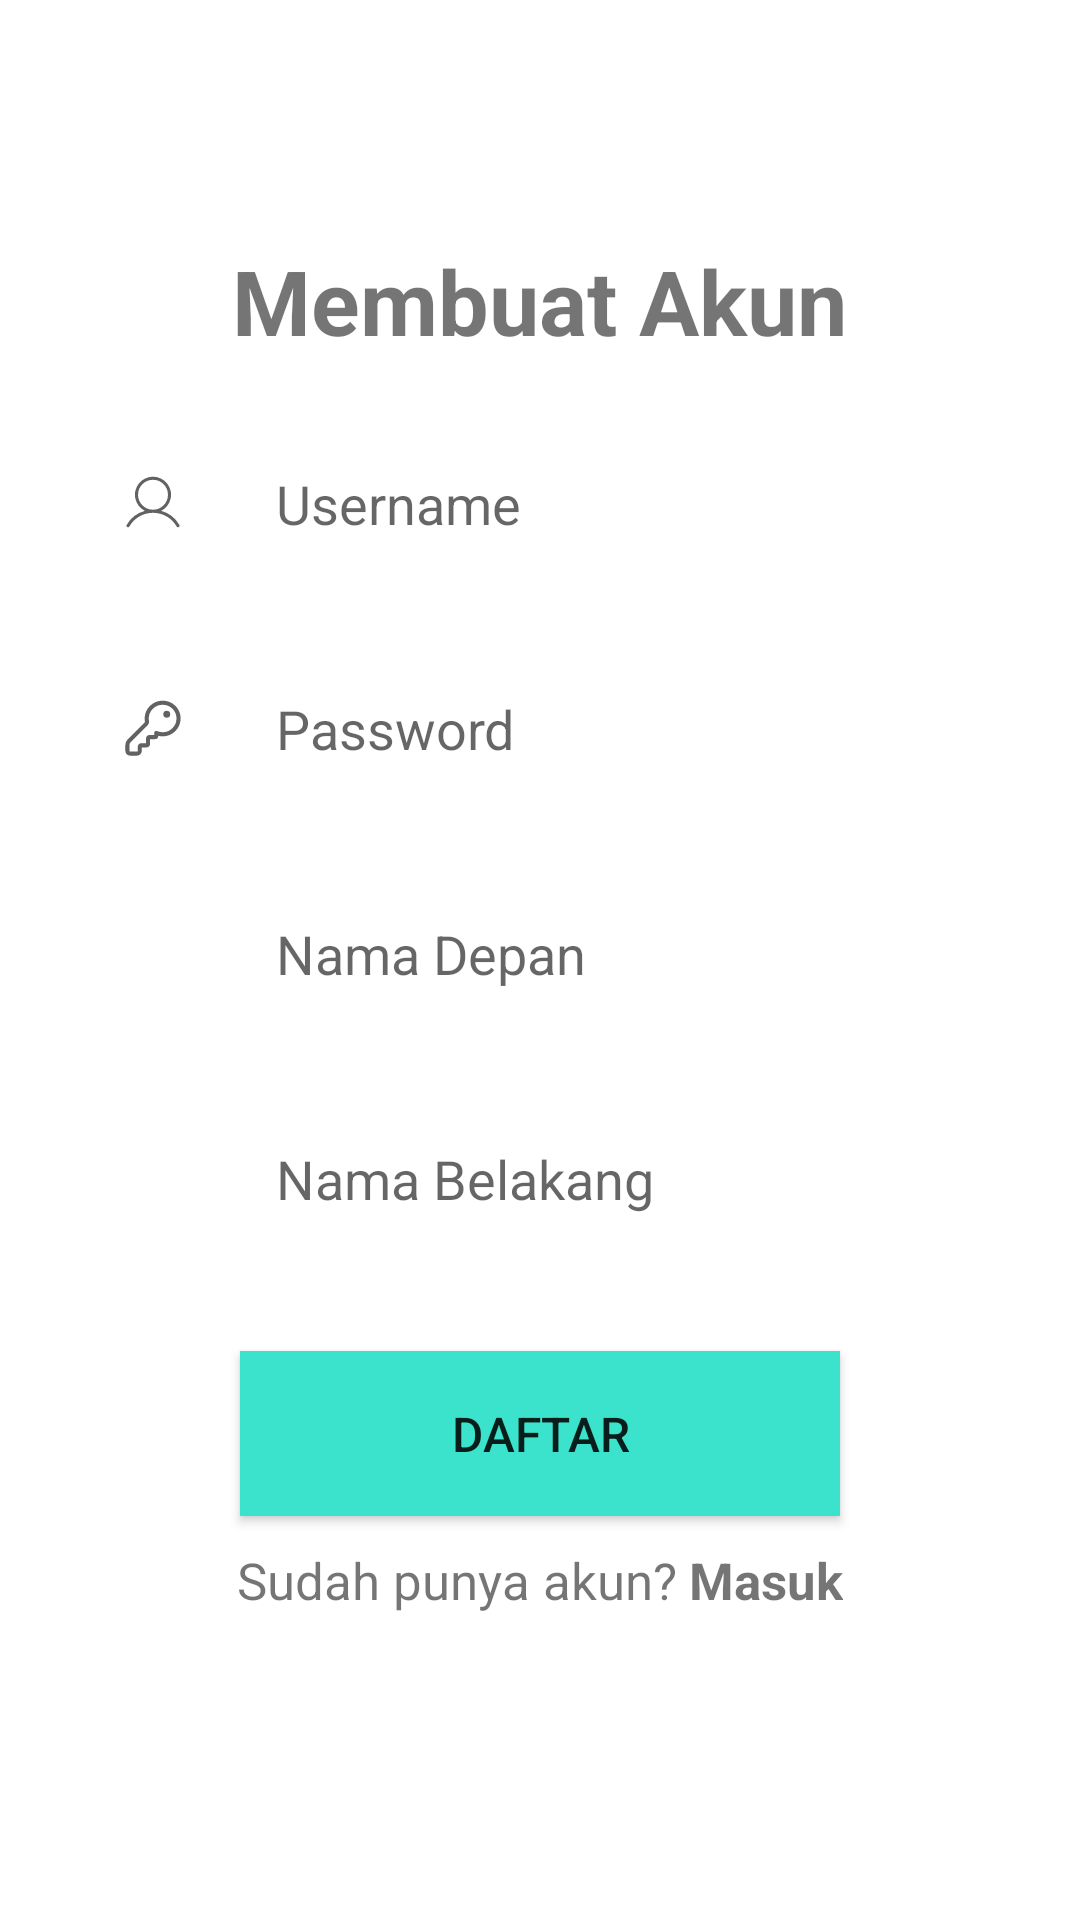

Point at icon controls on the screen. Image size 1080 x 1920, points as [x,y].
key: [153,728]
